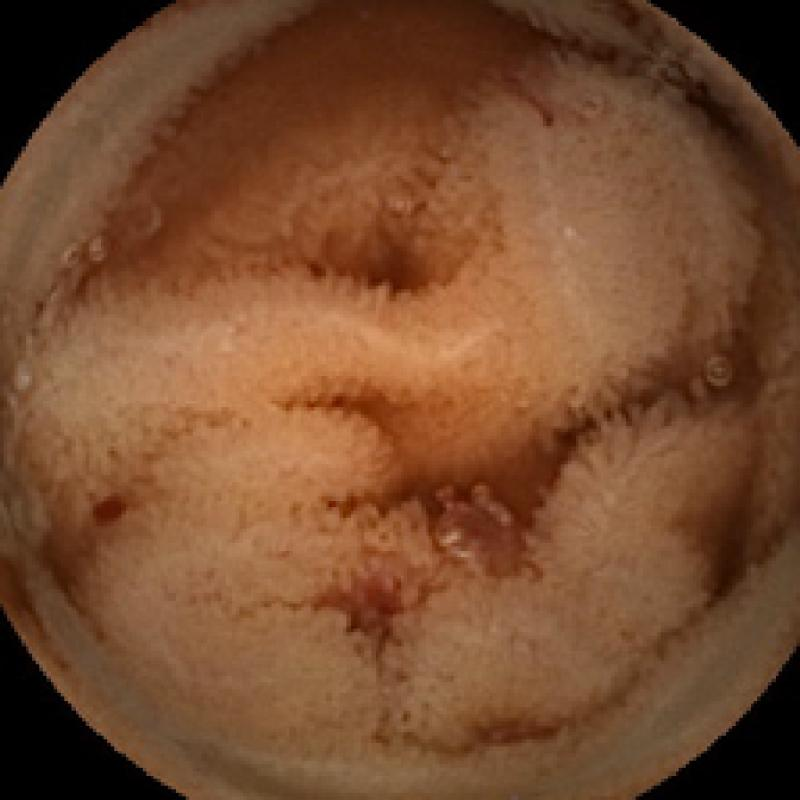bleeding: (86, 489, 146, 525)
